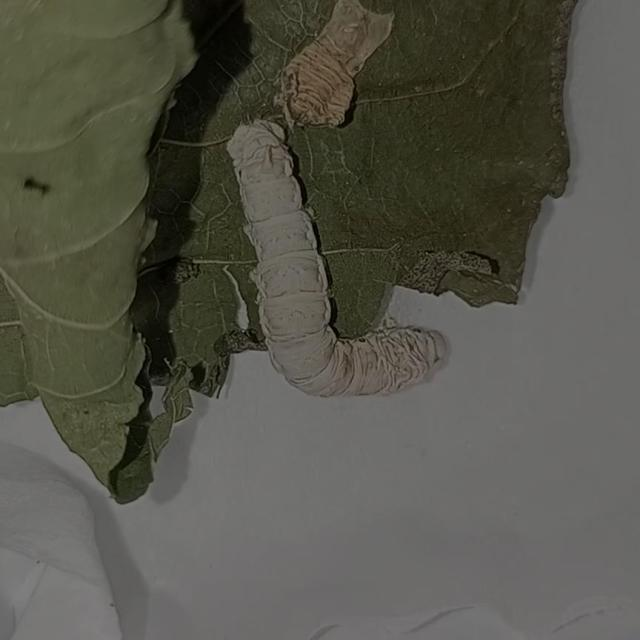Healthy: (188, 101, 478, 414)
